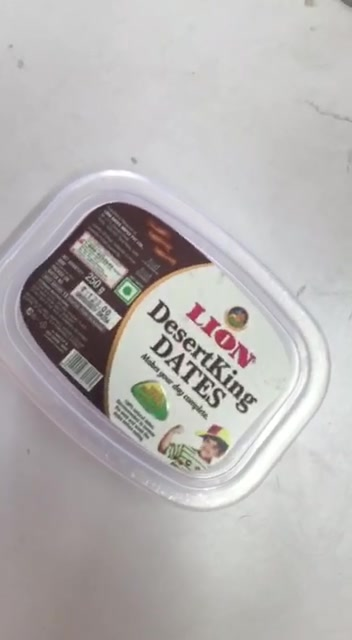Lion dates: (2, 171, 330, 512)
